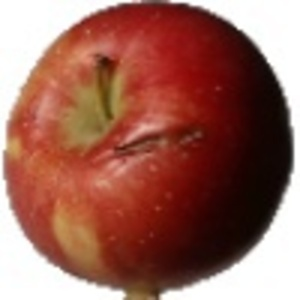maçã braeburn: (1, 1, 298, 290)
